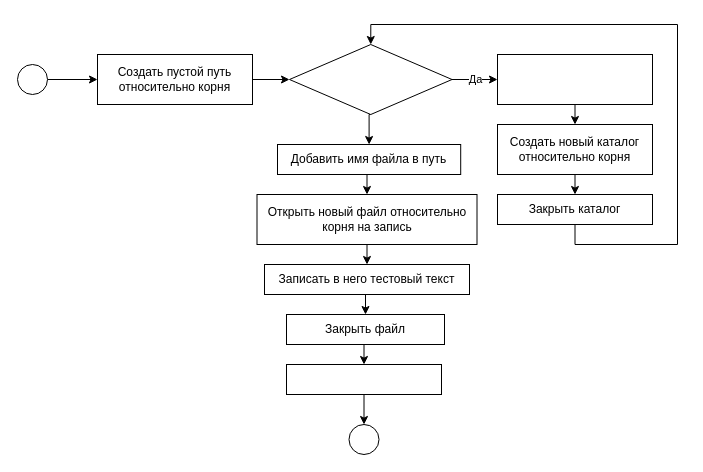
This 703x472 diagram has some shape labels left out. Here are the shapes that lost their labels. From the top down, the centre of each, then its label:
At [370,79]: "Нужен подкаталог?".
At [574,79]: "Добавить подкаталог в путь".
At [364,379]: "Очистить путь".
